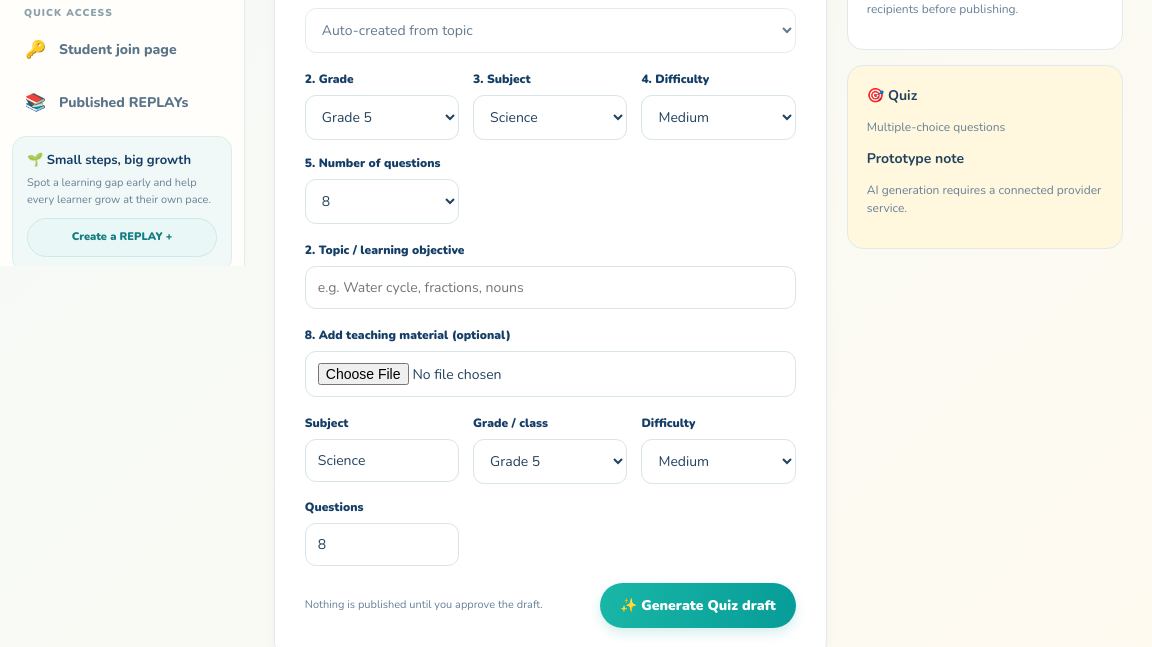
Scenario: quiz response opens a quiz draft without sequencing fields or requests
(page scrolled)
Type "Water cycle" into the field labelled "2. Topic / learning objective" at (550,288), box [305,266,796,309]
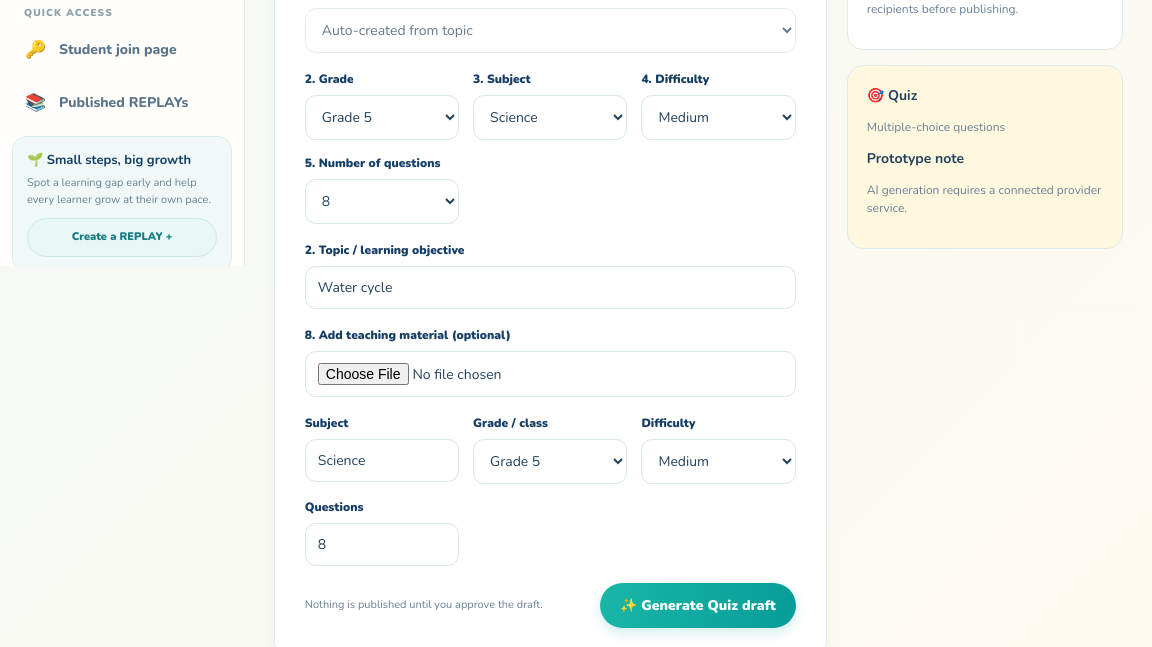
Click the button "✨ Generate Quiz draft" at (698,606), box [600,583,796,628]
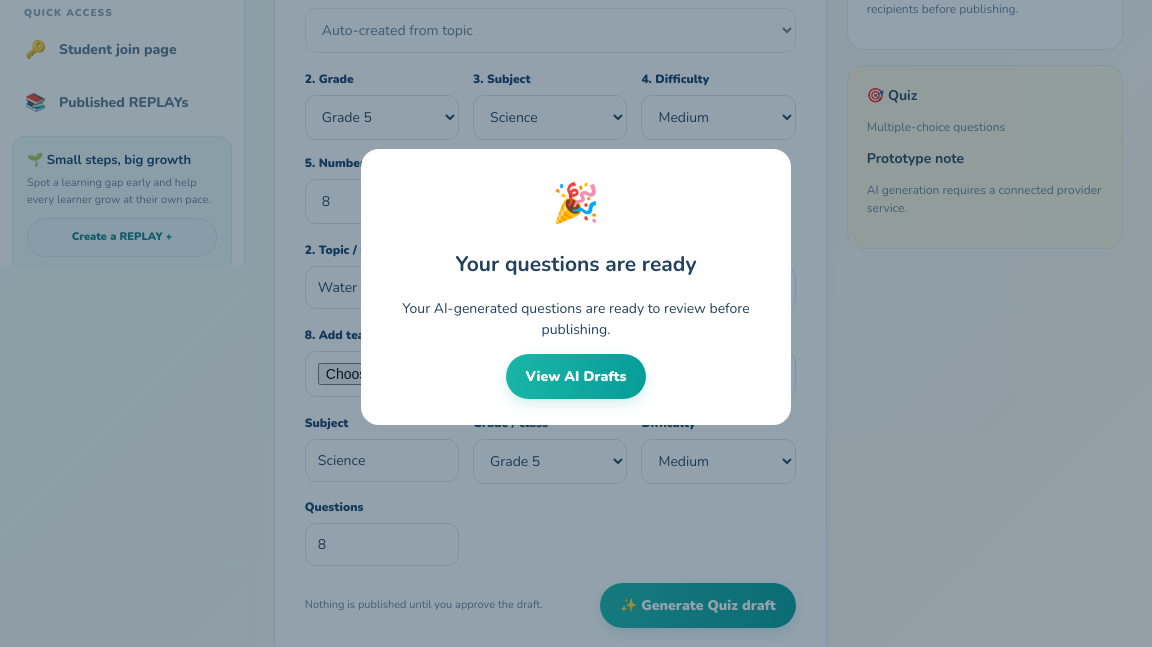
Now the dialog "questions are ready" is shown, box [361,149,791,425]
